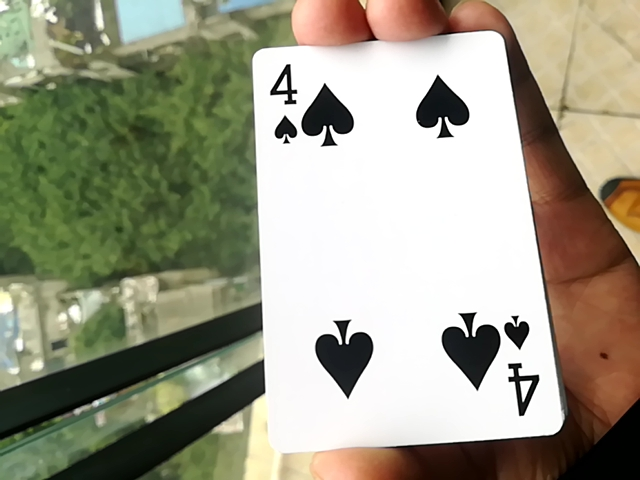ht 4: (237, 41, 572, 459)
